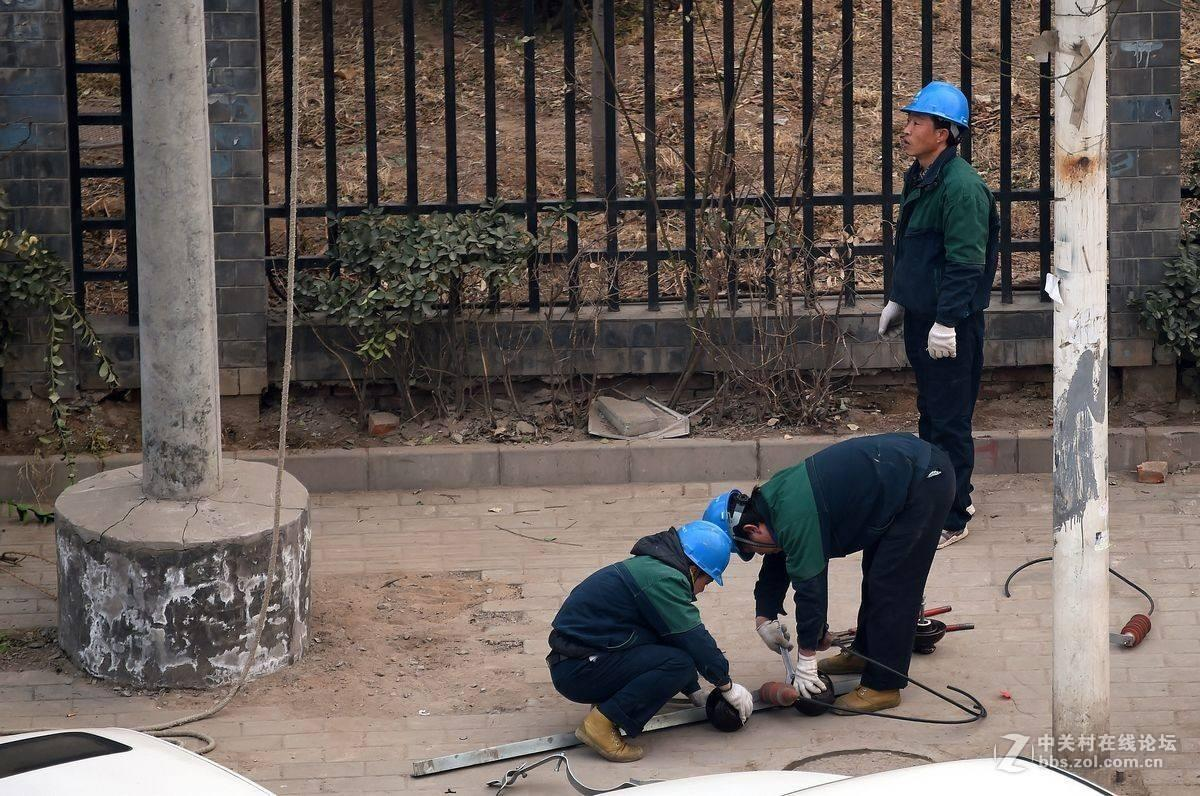helmet: (678, 512, 742, 590), (901, 72, 977, 123)
person: (869, 73, 1006, 532), (551, 517, 757, 768)
